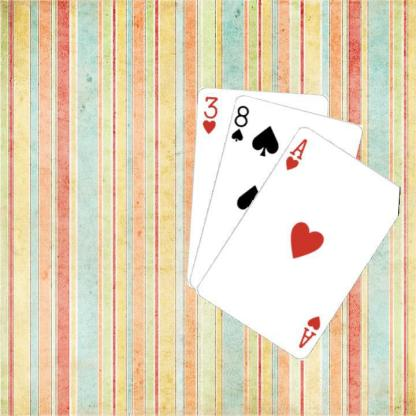3H: (199, 94, 219, 134)
8S: (228, 102, 250, 144)
AH: (295, 312, 322, 350), (282, 135, 308, 172)
